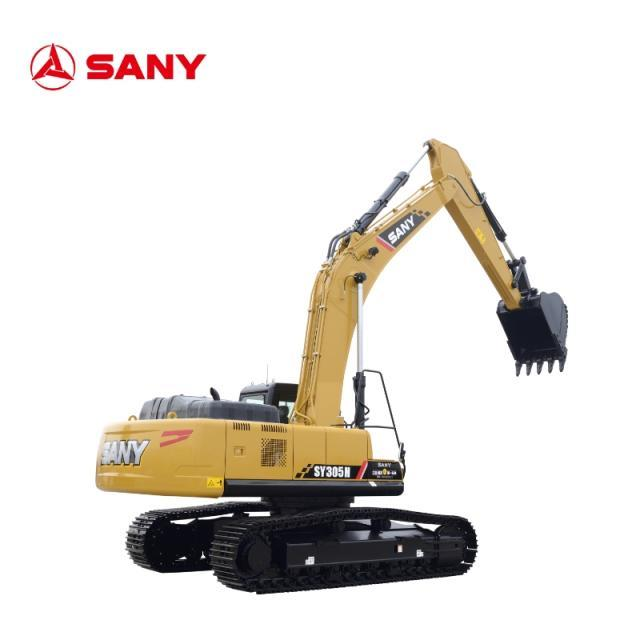C_E: (84, 140, 564, 594)
